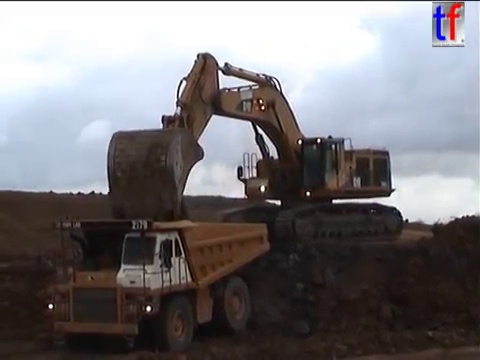excavator: (103, 50, 407, 252)
truck: (38, 213, 273, 354)
